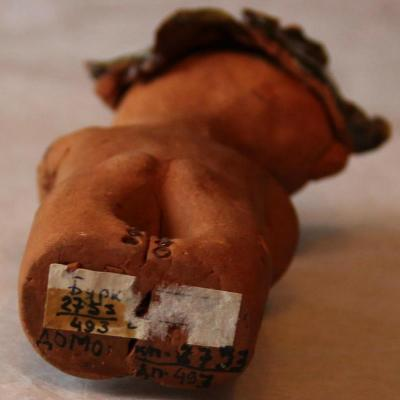sculpture: (17, 9, 387, 392)
